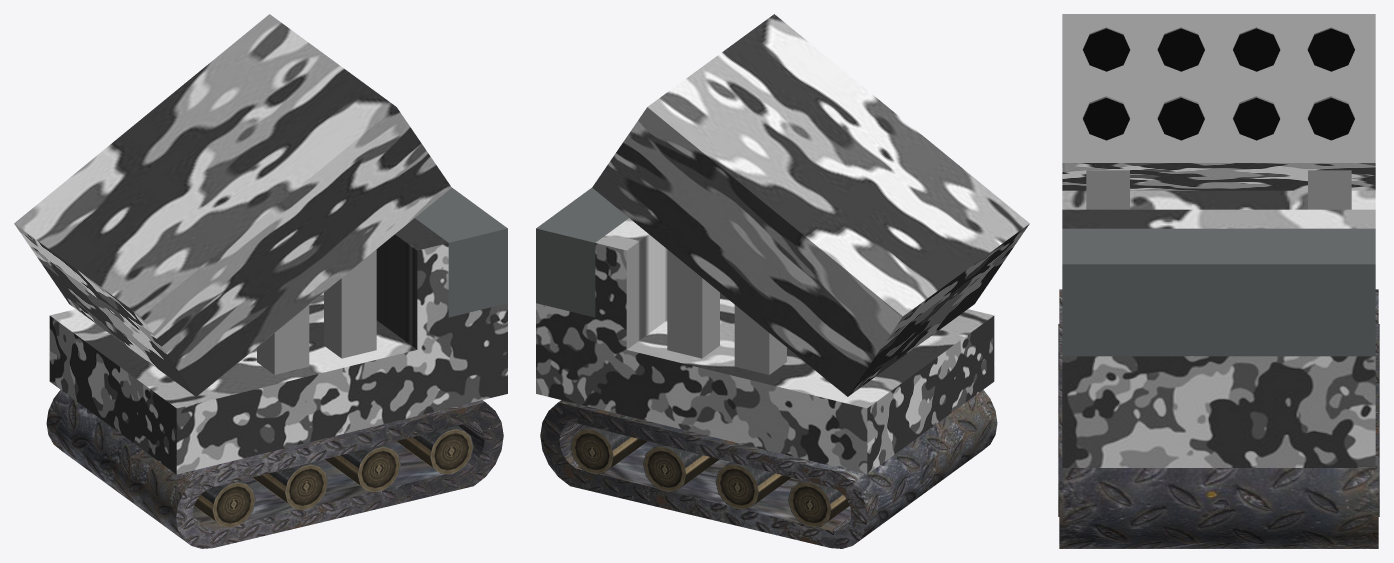
File: HumanAntiAirV2.fbx
3 views of the same model, side by side, from view 1: azimuth 30°, elevation 25°; view 2: azimuth 150°, elevation 25°; view 3: azimuth 270°, elevation 25° (orthographic). The views are drawn at different scales.
Parts seen in each view (by area): view 1: launchercase, aabody, Track, glassPane, launcherConnector7, launcherConnector1, Wheel1, Wheel2, Wheel3, Wheel4; view 2: launchercase, aabody, Track, glassPane, launcherConnector6, launcherConnector5, Wheel1, Wheel2, Wheel3, Wheel4; view 3: aabody, glassPane, firingCasing, Track, firingHoles, launchercase, launcherConnector7, launcherConnector6.
Part boxes in pixels (x1,y1,x2,y2): launchercase: (14,14,451,396); aabody: (49,218,507,474); Track: (46,389,503,548); glassPane: (415,187,507,317); launcherConnector7: (324,249,376,358); launcherConnector1: (257,305,309,374); Wheel1: (396,425,473,474); Wheel2: (324,444,400,492); Wheel3: (252,462,328,509); Wheel4: (194,480,255,527); launchercase: (592,14,1029,396); aabody: (536,218,994,474); Track: (540,389,997,548); glassPane: (536,187,628,317); launcherConnector6: (667,249,719,358); launcherConnector5: (734,305,786,374); Wheel1: (570,425,647,474); Wheel2: (643,444,719,492); Wheel3: (715,462,791,509); Wheel4: (788,480,849,527); aabody: (1062,190,1375,467); glassPane: (1062,228,1375,356); firingCasing: (1062,14,1375,162); Track: (1059,289,1378,548); firingHoles: (1083,28,1354,140); launchercase: (1062,163,1375,190); launcherConnector7: (1086,170,1129,209); launcherConnector6: (1308,170,1351,209).
Size of the model in its own units: 15.86 by 16.4 by 9.76.
Materials: 6 (3 with a texture image).
